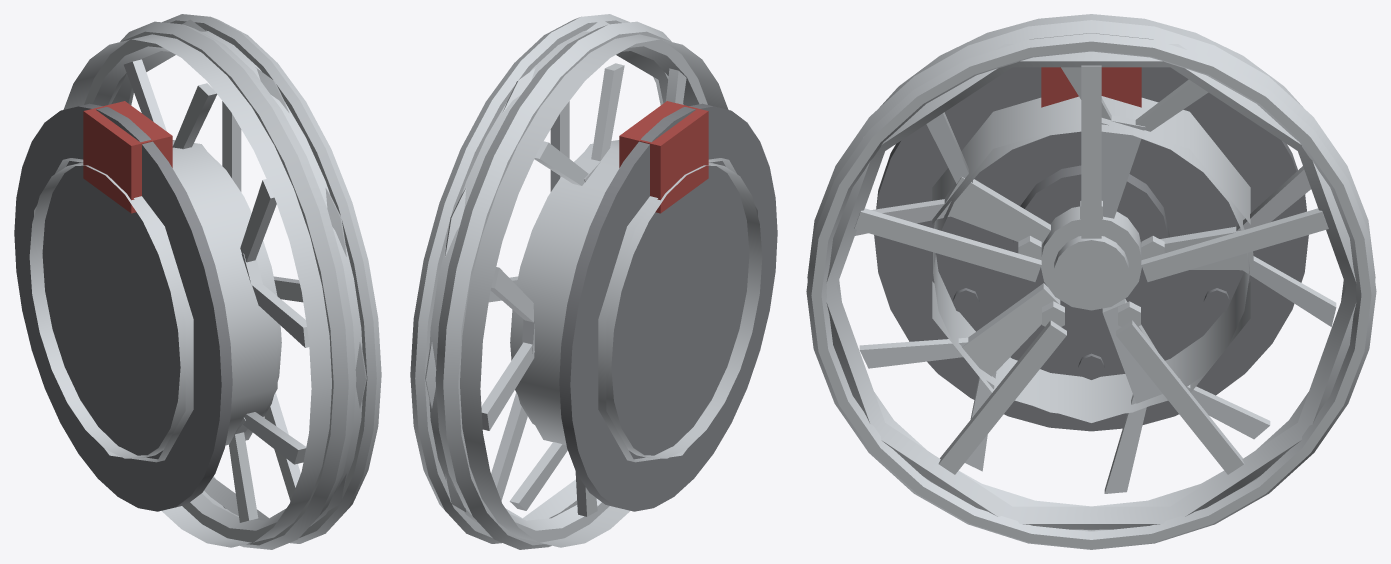
The model's file is wh-split.glb.
The picture shows the model from 3 angles, left to right: view 1: azimuth 30°, elevation 25°; view 2: azimuth 150°, elevation 25°; view 3: azimuth 270°, elevation 25°; orthographic projection. The views are drawn at different scales.
Parts seen in each view (by area): view 1: Chrome, Rotor, ChromeLOD, Caliper; view 2: Chrome, Rotor, ChromeLOD, Caliper; view 3: Chrome, Rotor, ChromeLOD, Caliper.
Boxes of the visible parts, x1,y1,x2,y2 form: Chrome: [29, 14, 381, 549]; Rotor: [14, 103, 232, 511]; ChromeLOD: [34, 19, 366, 520]; Caliper: [83, 101, 172, 213]; Chrome: [410, 14, 762, 549]; Rotor: [559, 103, 777, 511]; ChromeLOD: [425, 19, 757, 520]; Caliper: [619, 101, 708, 213]; Chrome: [806, 14, 1376, 549]; Rotor: [874, 67, 1308, 431]; ChromeLOD: [826, 44, 1356, 529]; Caliper: [1041, 67, 1141, 107].
Bounding box in the file's own units: 0.1554 × 0.5112 × 0.5112.
